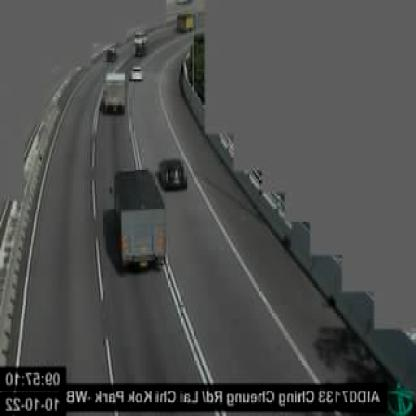Car: (156, 157, 187, 188), (132, 38, 146, 58), (131, 65, 144, 80)
Truck: (110, 172, 165, 276), (104, 71, 125, 116), (177, 12, 192, 32)
